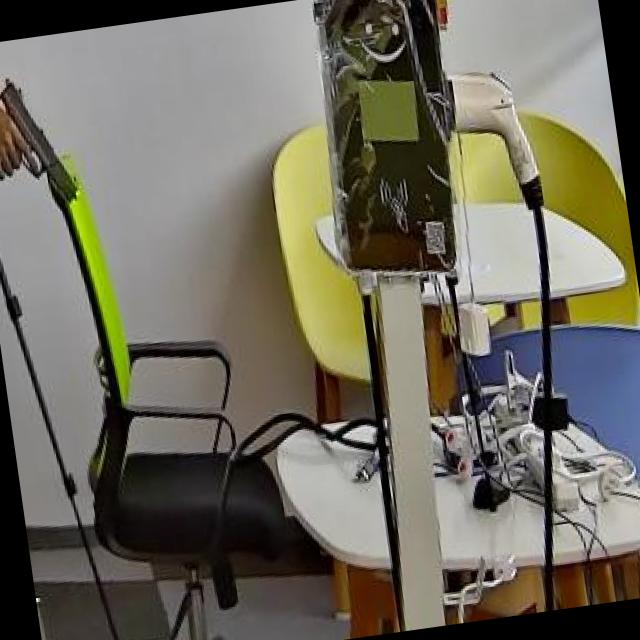Guns: (0, 67, 81, 214)
